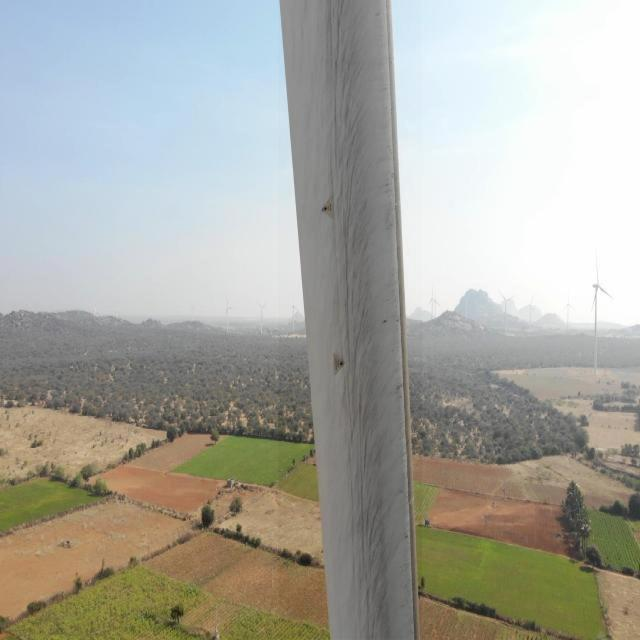Dirt: (310, 0, 422, 639)
